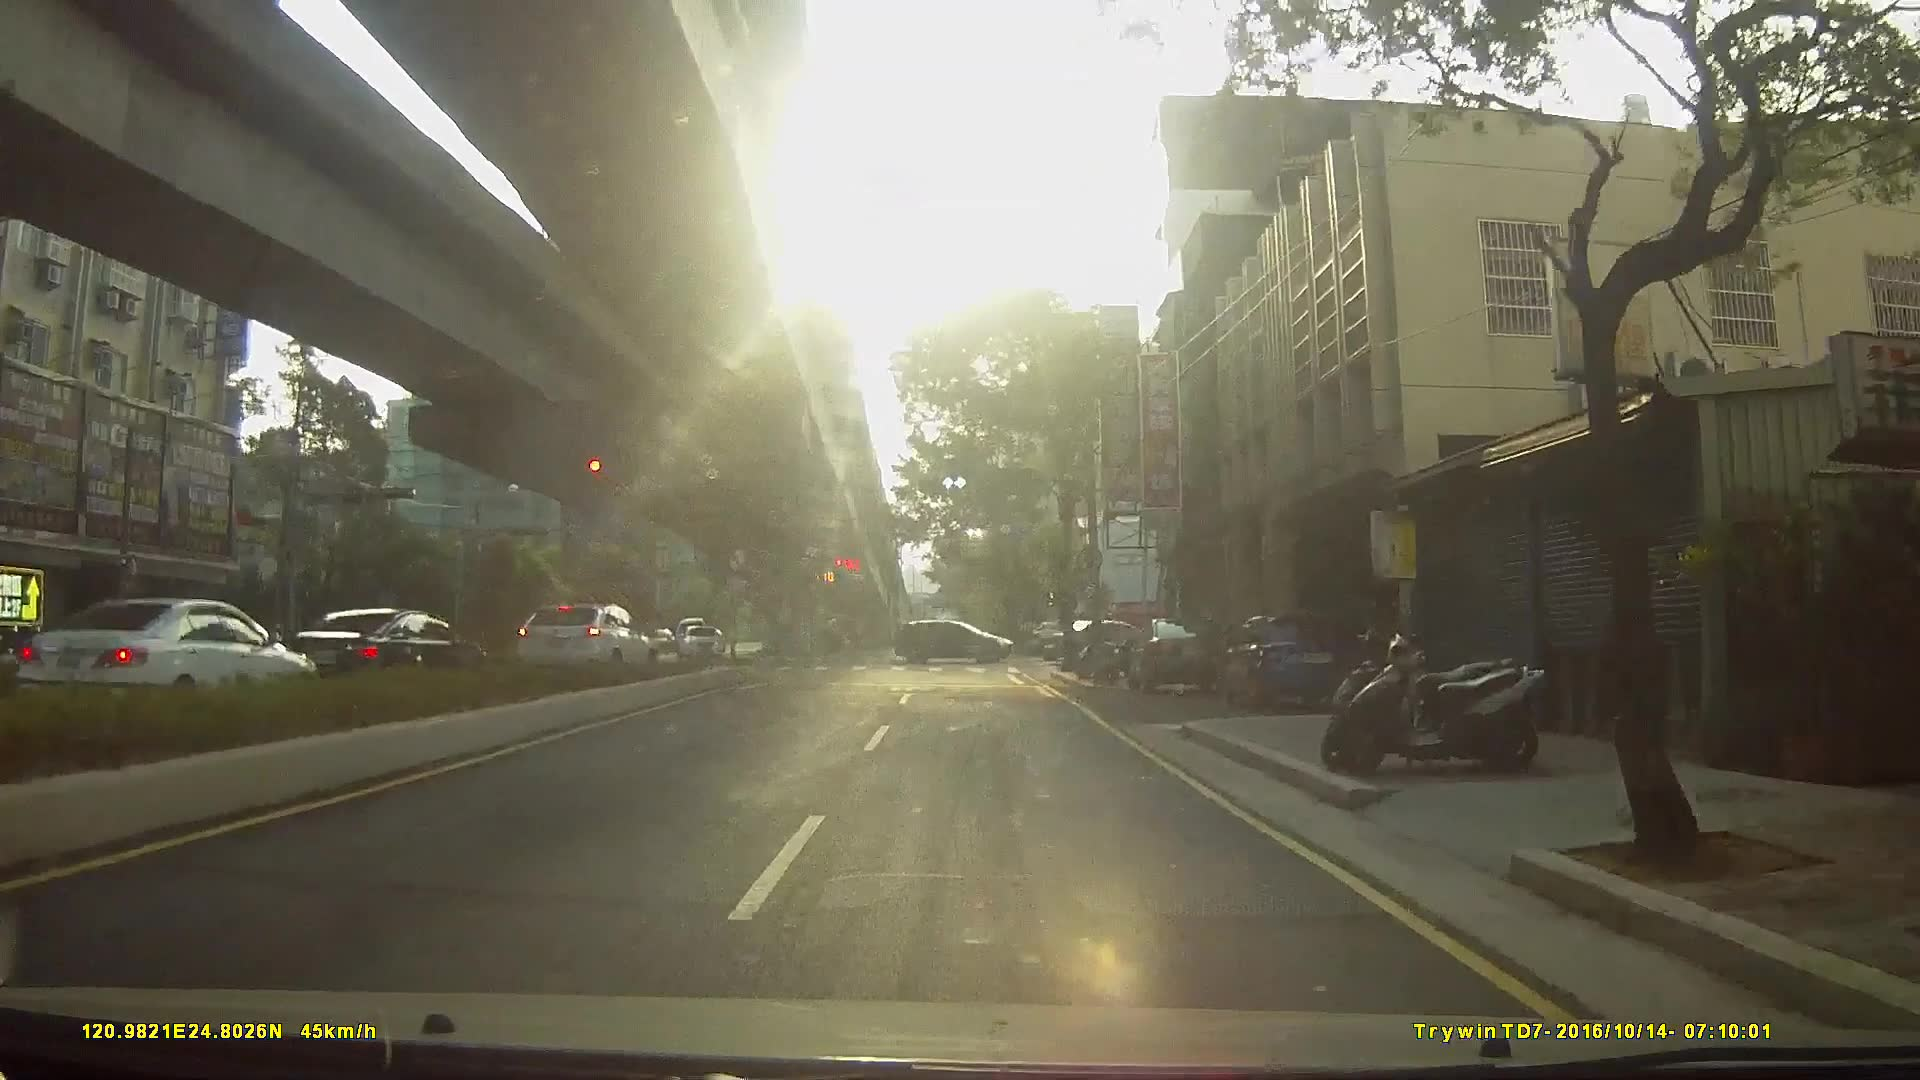vehicle: (21, 593, 316, 717), (277, 603, 488, 694), (1225, 607, 1371, 711), (508, 597, 654, 673), (1127, 608, 1233, 687), (895, 615, 1018, 659), (678, 620, 723, 658), (636, 624, 675, 651)
